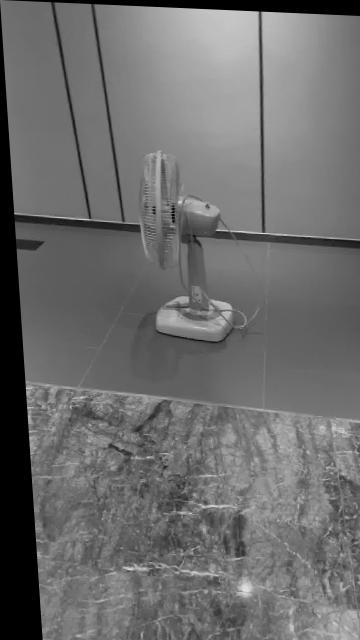Fan: (137, 150, 230, 341)
